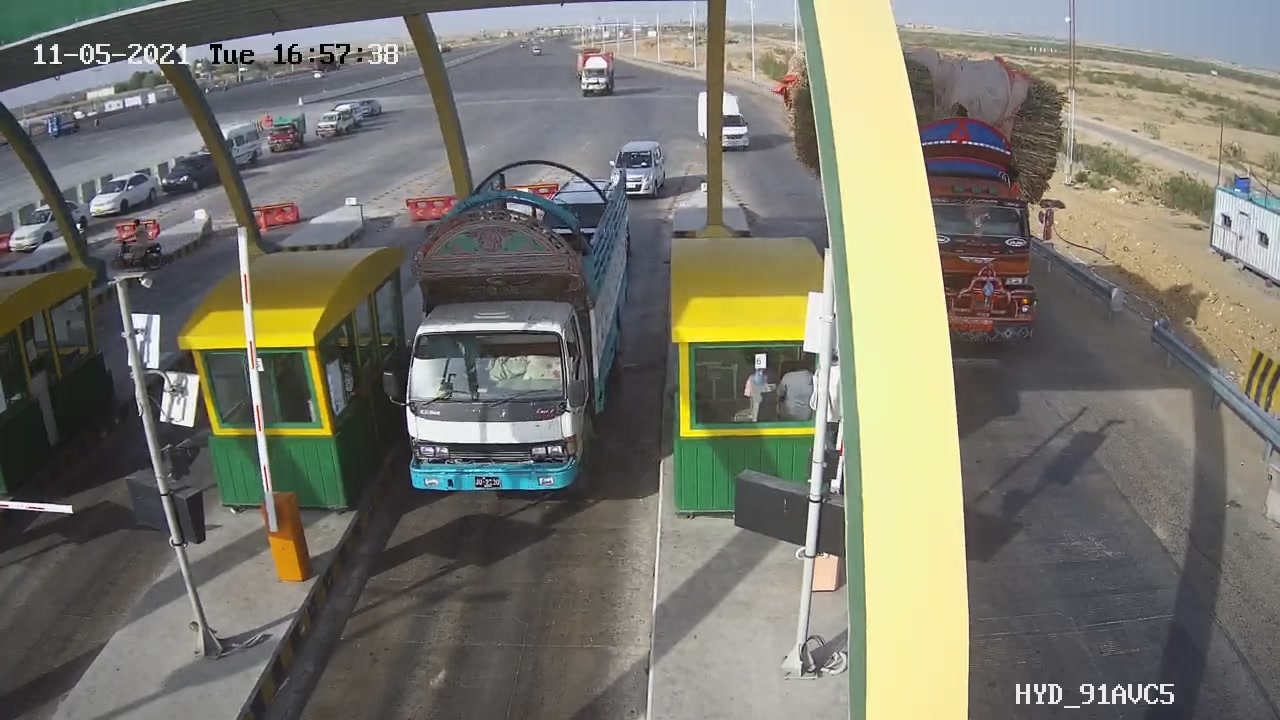F5: (367, 146, 657, 520)
